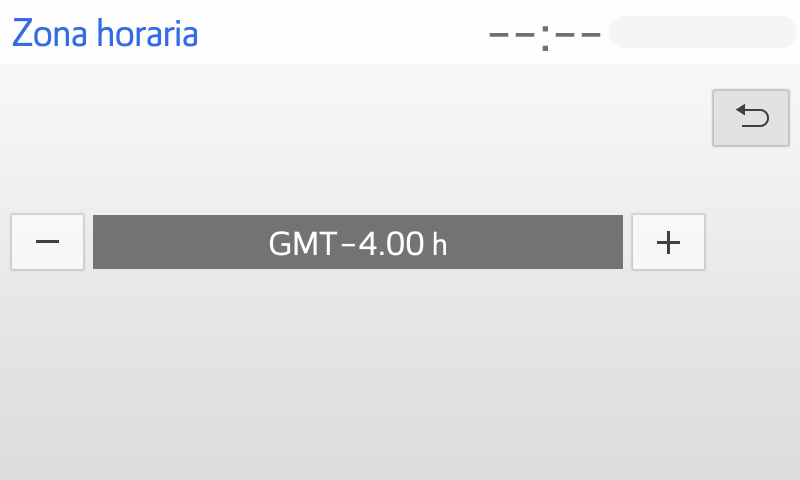touchPart: (626, 208, 714, 277), (4, 208, 85, 279), (707, 89, 791, 149)
untouchPart: (92, 209, 627, 278), (478, 11, 800, 52), (14, 14, 200, 55)
